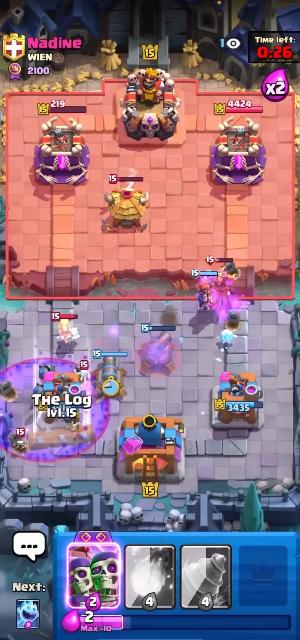ally_building: (134, 324, 180, 376), (92, 349, 132, 398)
ally_melee: (189, 269, 219, 313), (63, 408, 80, 432), (39, 363, 55, 384), (217, 329, 237, 344), (33, 383, 43, 395)
enemy_building: (108, 175, 150, 229)
enemy_melee: (51, 312, 82, 344), (74, 360, 90, 382), (12, 428, 27, 450)
enemy_ranged: (205, 253, 235, 313)
